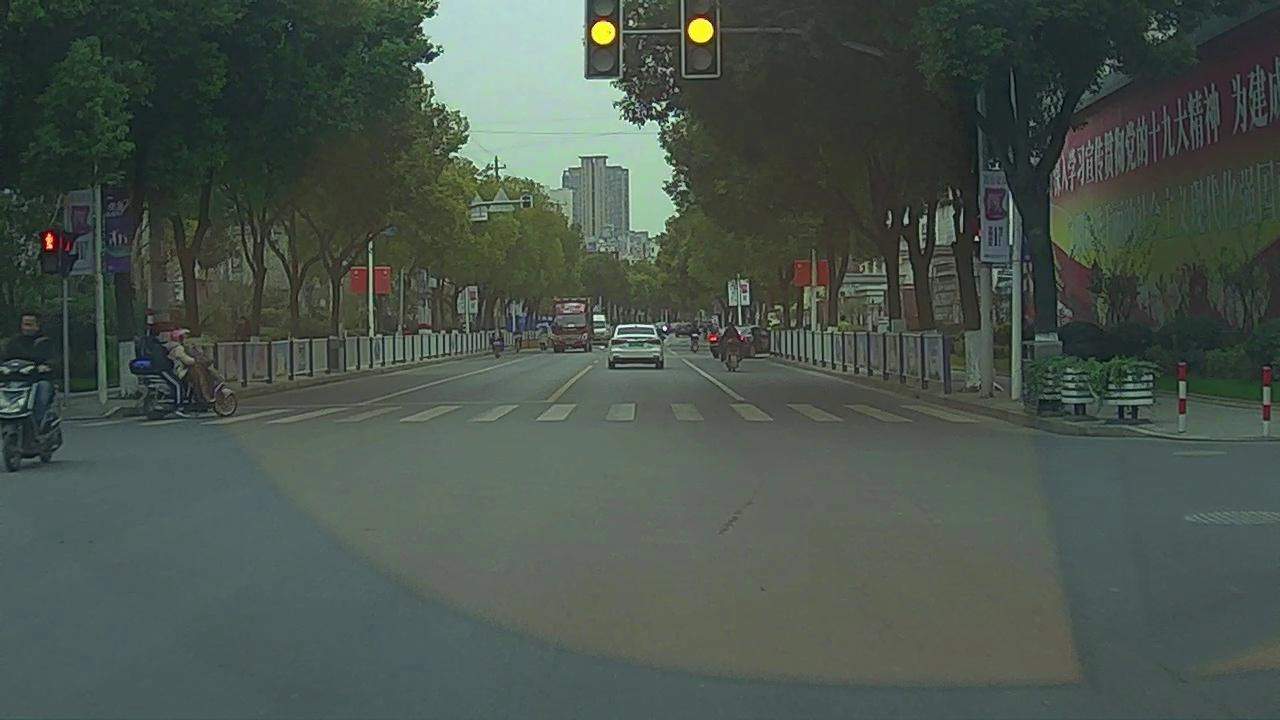traffic_light: (682, 1, 717, 78), (588, 1, 621, 77)
